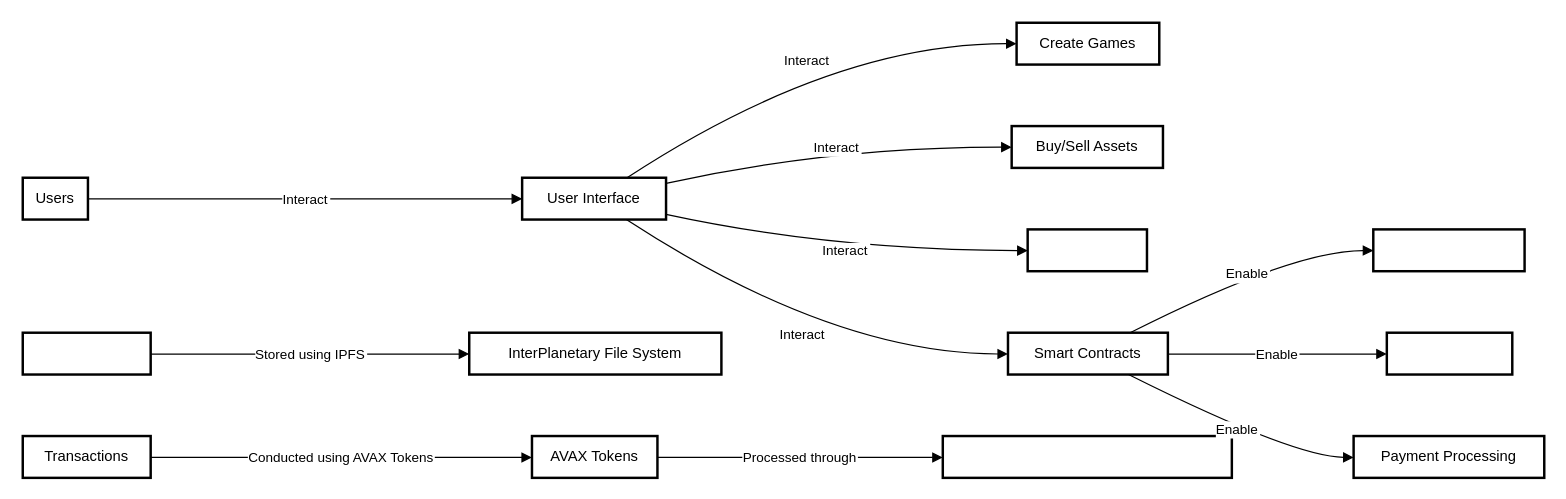
The diagram is 1566 pixels wide and 499 high, and some of its shapes have lost their labels. The centre of each missing label's shape, as x and y in pixels:
Avalanche Blockchain Network: (1086,456)
Deployment: (1449,353)
Game Assets: (86,353)
Game Creation: (1448,250)
Play Games: (1087,250)
